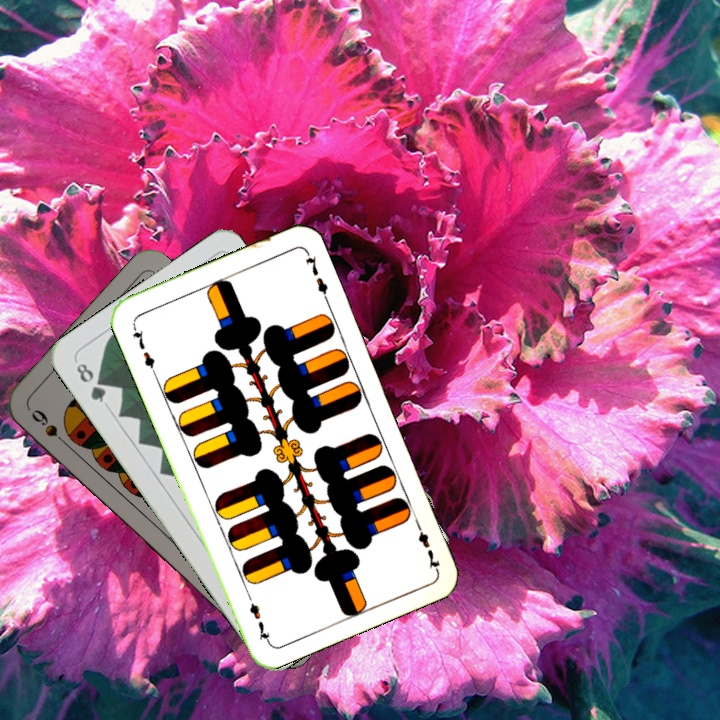E7: (410, 516, 443, 573), (128, 320, 159, 377)
G8: (72, 358, 109, 406)
S9: (27, 405, 73, 451)
